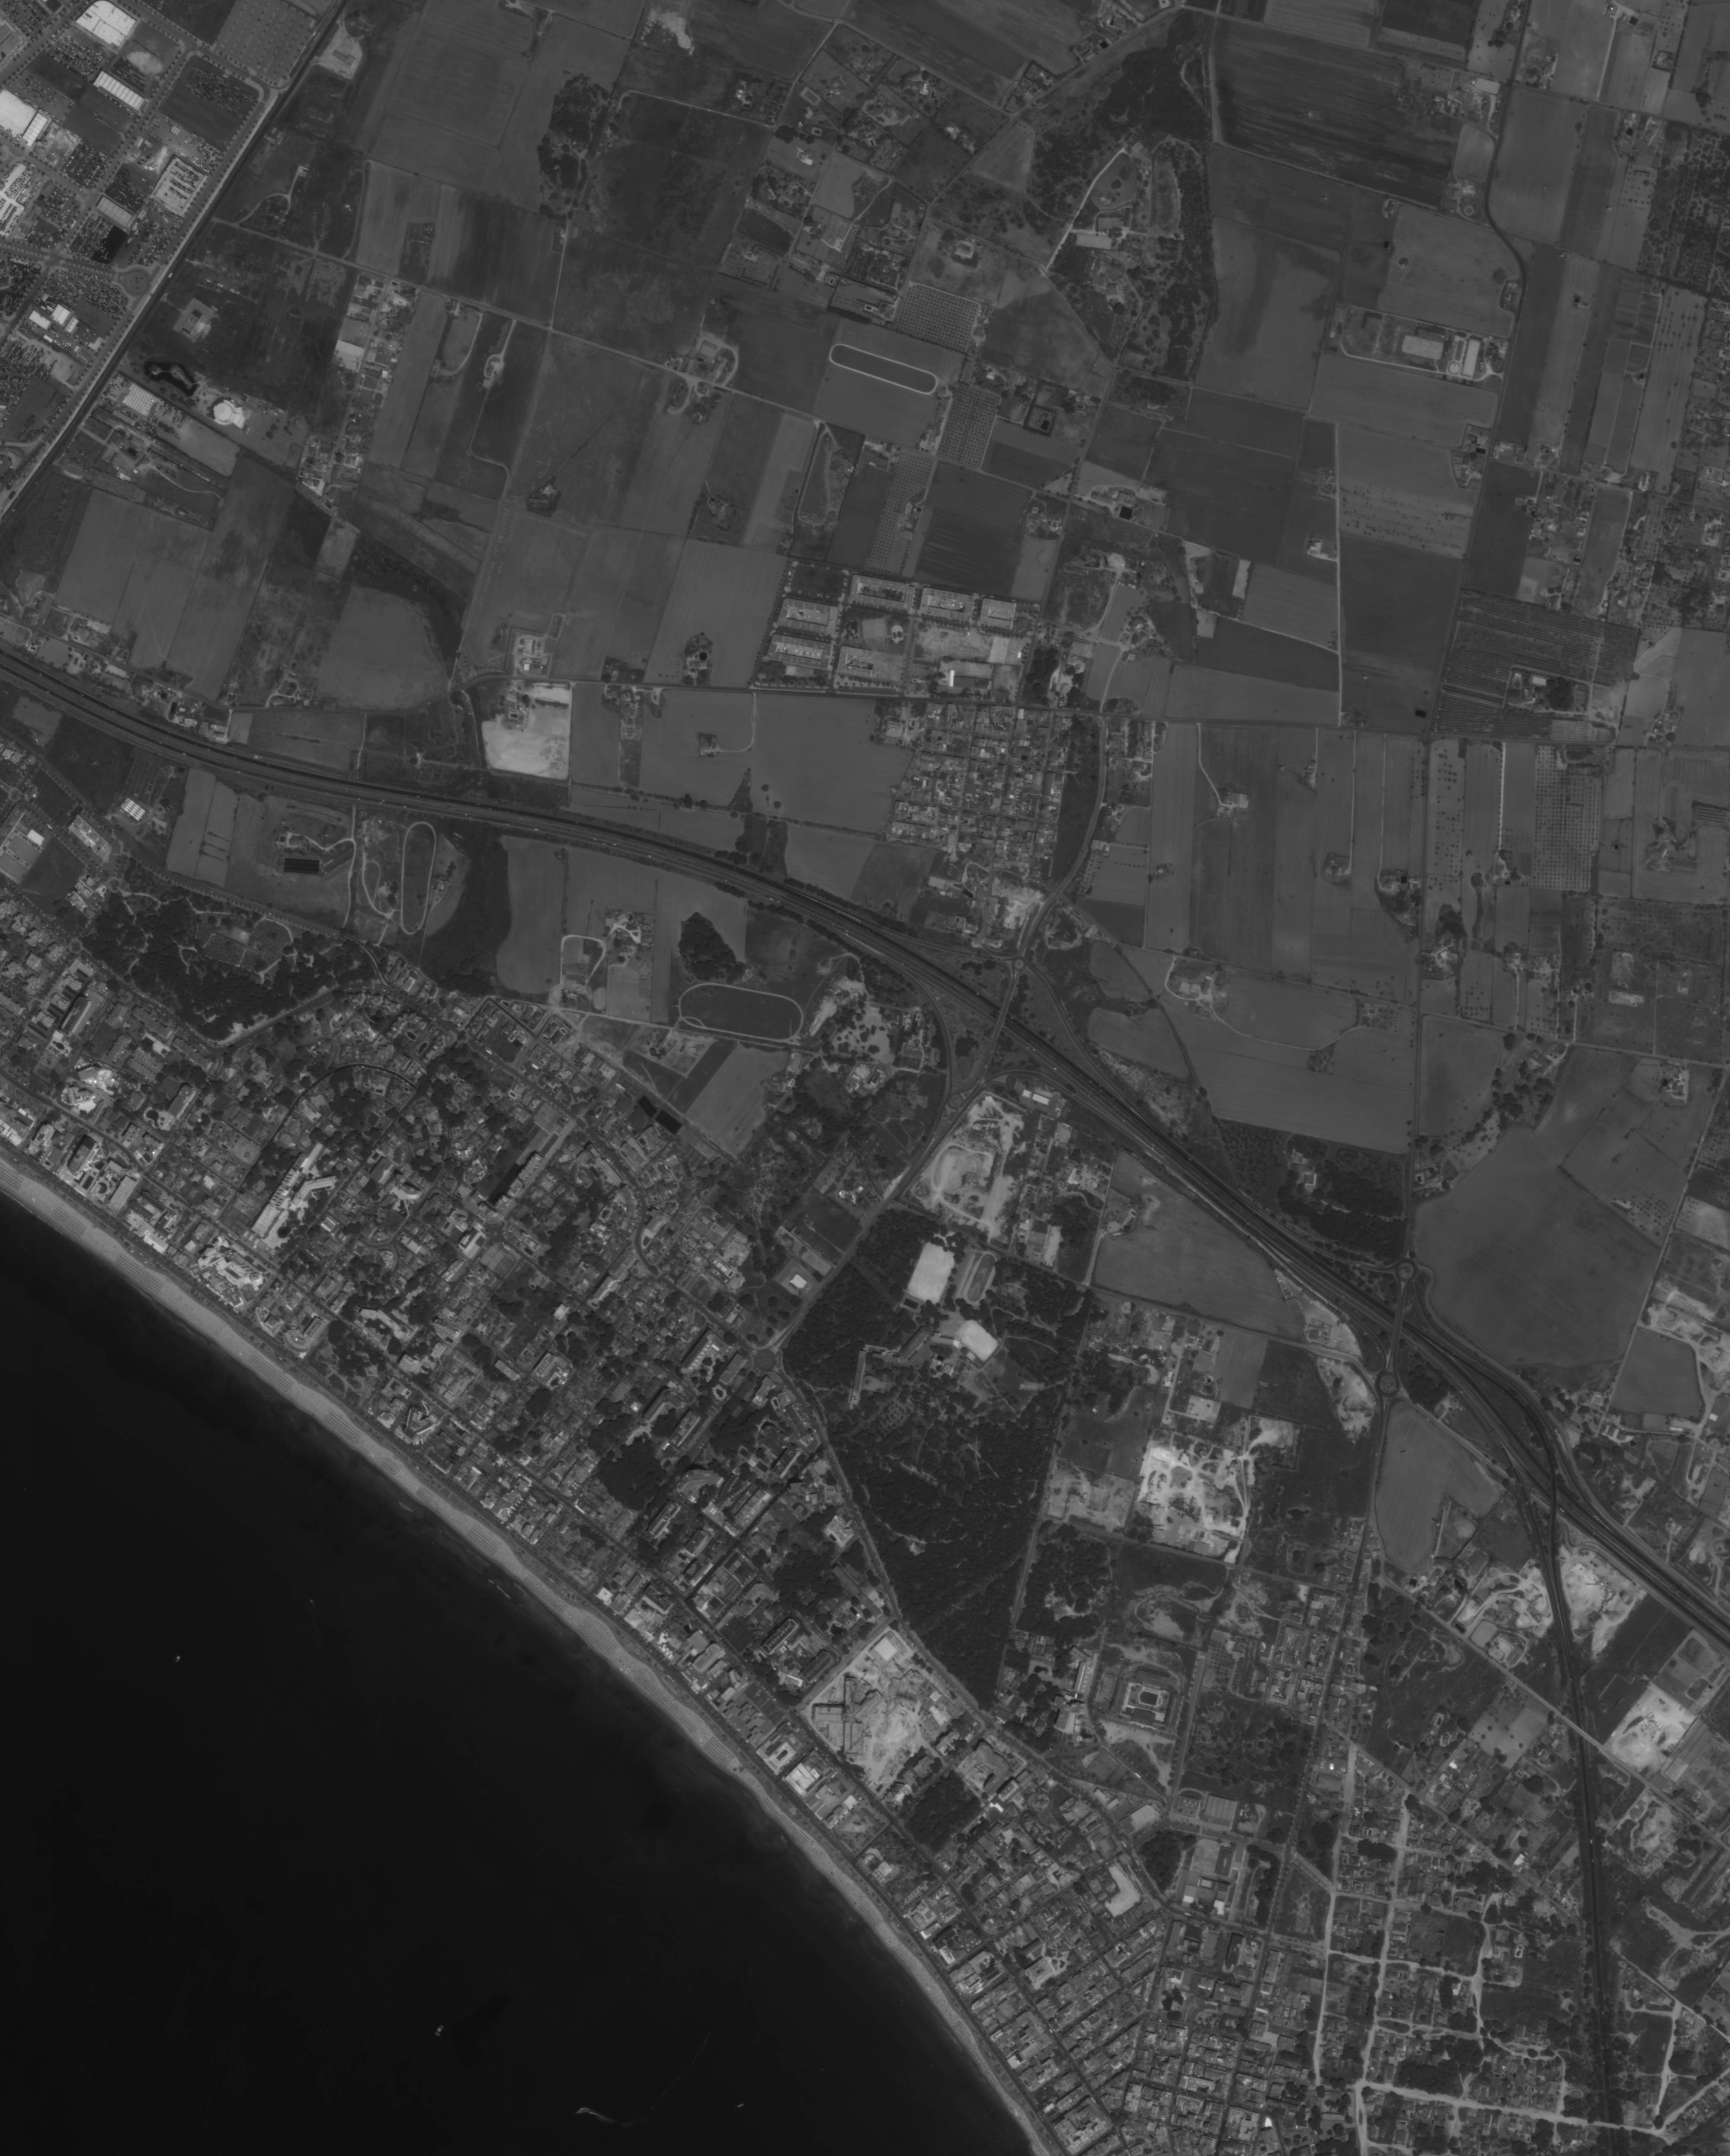bridge: (992, 1005, 1012, 1031)
ground track field: (669, 978, 810, 1049)
roundabout: (125, 272, 150, 293), (1379, 1374, 1400, 1397), (756, 1351, 777, 1372), (1396, 1261, 1416, 1280), (946, 1093, 964, 1109), (1013, 957, 1026, 971)
